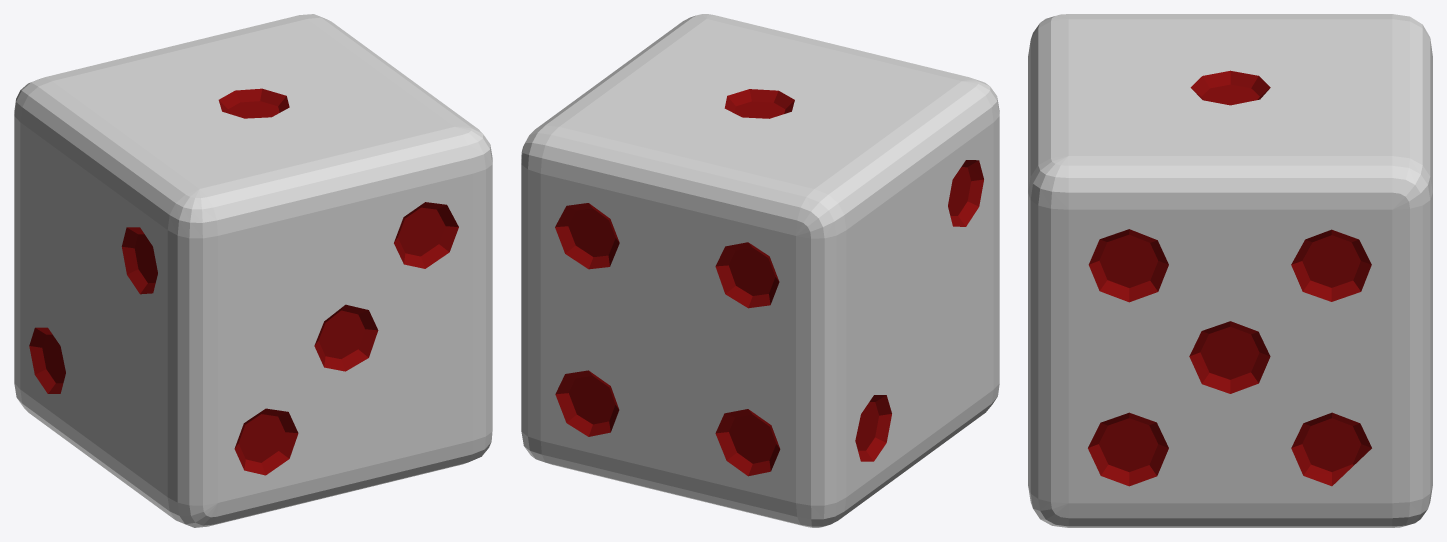
The model's file is dice.obj.
The picture shows the model from 3 angles, left to right: view 1: azimuth 30°, elevation 25°; view 2: azimuth 150°, elevation 25°; view 3: azimuth 270°, elevation 25°; orthographic projection. The views are drawn at different scales.
Visible parts, largest first — view 1: Box001, Box002; view 2: Box001, Box002; view 3: Box001, Box002.
Boxes of the visible parts, bbox=[...] form: Box001: bbox=[14, 14, 492, 527]; Box002: bbox=[29, 88, 458, 475]; Box001: bbox=[521, 14, 999, 527]; Box002: bbox=[555, 89, 983, 476]; Box001: bbox=[1028, 14, 1432, 527]; Box002: bbox=[1088, 70, 1371, 486].
Bounding box in the file's own units: 0.4 × 0.4 × 0.4.
